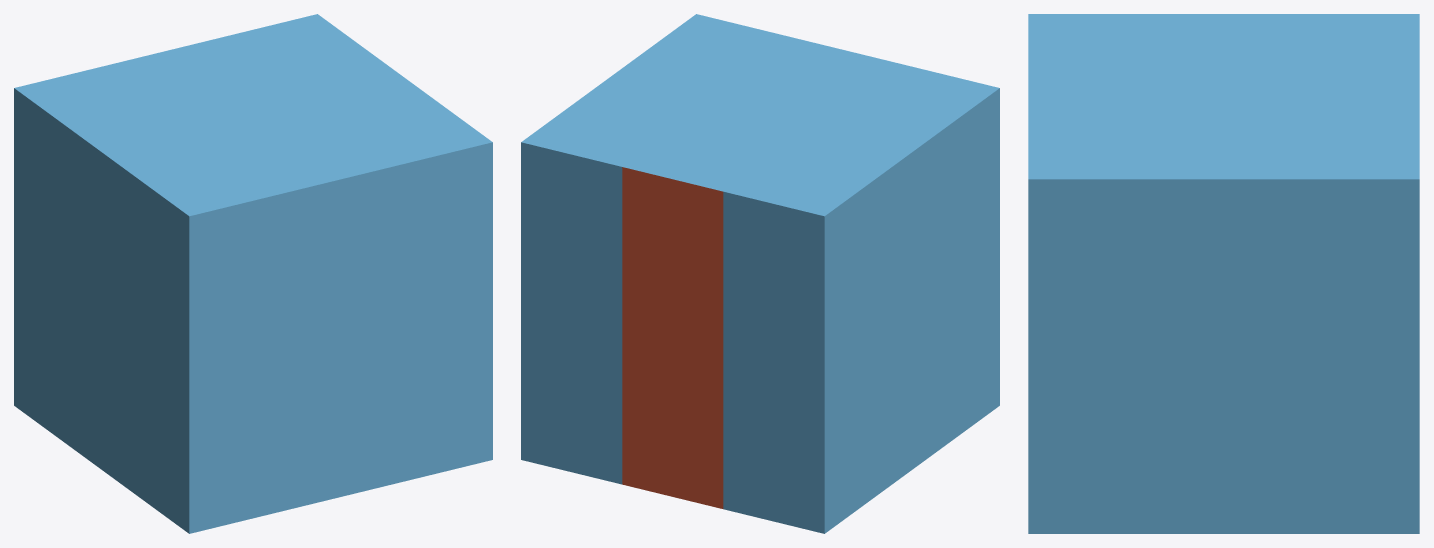
Rendered from Straight.fbx.
3 renders of one model, left to right at view 1: azimuth 30°, elevation 25°; view 2: azimuth 150°, elevation 25°; view 3: azimuth 270°, elevation 25°, orthographic. The views are drawn at different scales.
Visible parts, largest first — view 1: Straight; view 2: Straight; view 3: Straight.
Part boxes in pixels (left/top/right/bottom): Straight: left=14, top=14, right=492, bottom=533; Straight: left=521, top=14, right=999, bottom=533; Straight: left=1028, top=14, right=1419, bottom=533.
Size of the model in its own units: 1 by 1 by 1.
